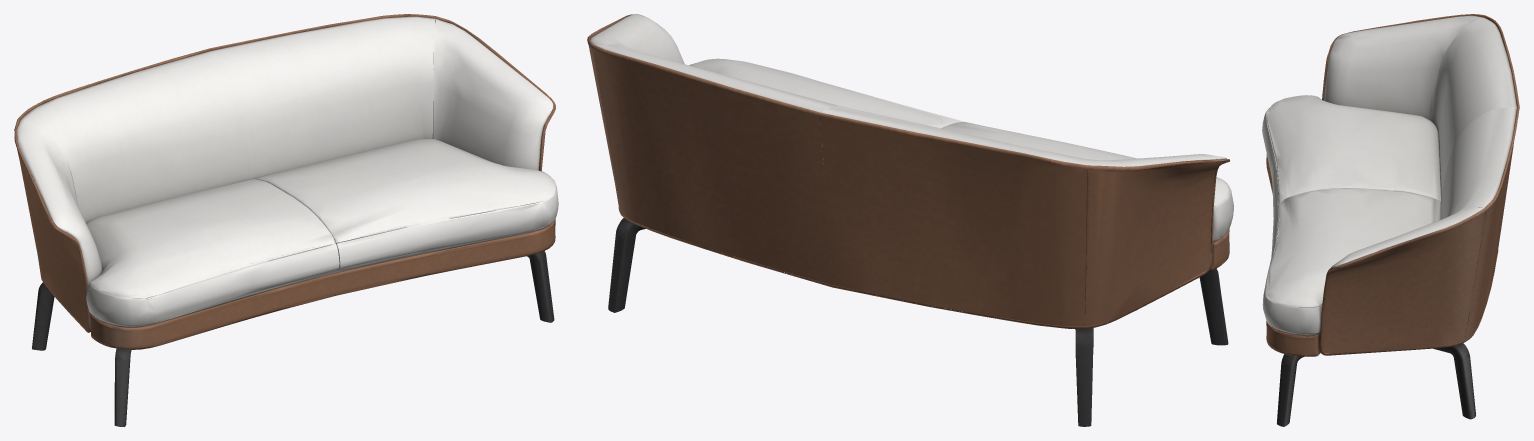
The model's file is raw_model.obj.
3 views of the same model, side by side, from view 1: azimuth 30°, elevation 25°; view 2: azimuth 150°, elevation 25°; view 3: azimuth 270°, elevation 25° (orthographic). The views are drawn at different scales.
Parts seen in each view (by area): view 1: solid_004, solid_003, solid_005, solid_001; view 2: solid_003, solid_004, solid_005; view 3: solid_004, solid_003, solid_005.
Boxes of the visible parts, box(x1,y1,x2,y2) form: solid_004: box(17, 16, 558, 326); solid_003: box(14, 14, 555, 349); solid_005: box(32, 251, 554, 426); solid_001: box(101, 227, 544, 327); solid_003: box(587, 14, 1229, 328); solid_004: box(590, 14, 1233, 241); solid_005: box(608, 218, 1228, 426); solid_004: box(1262, 15, 1516, 334); solid_003: box(1266, 14, 1519, 356); solid_005: box(1277, 343, 1475, 426).
Size of the model in its own units: 1.67 by 0.742 by 0.787.
1 material, 1 textured.
